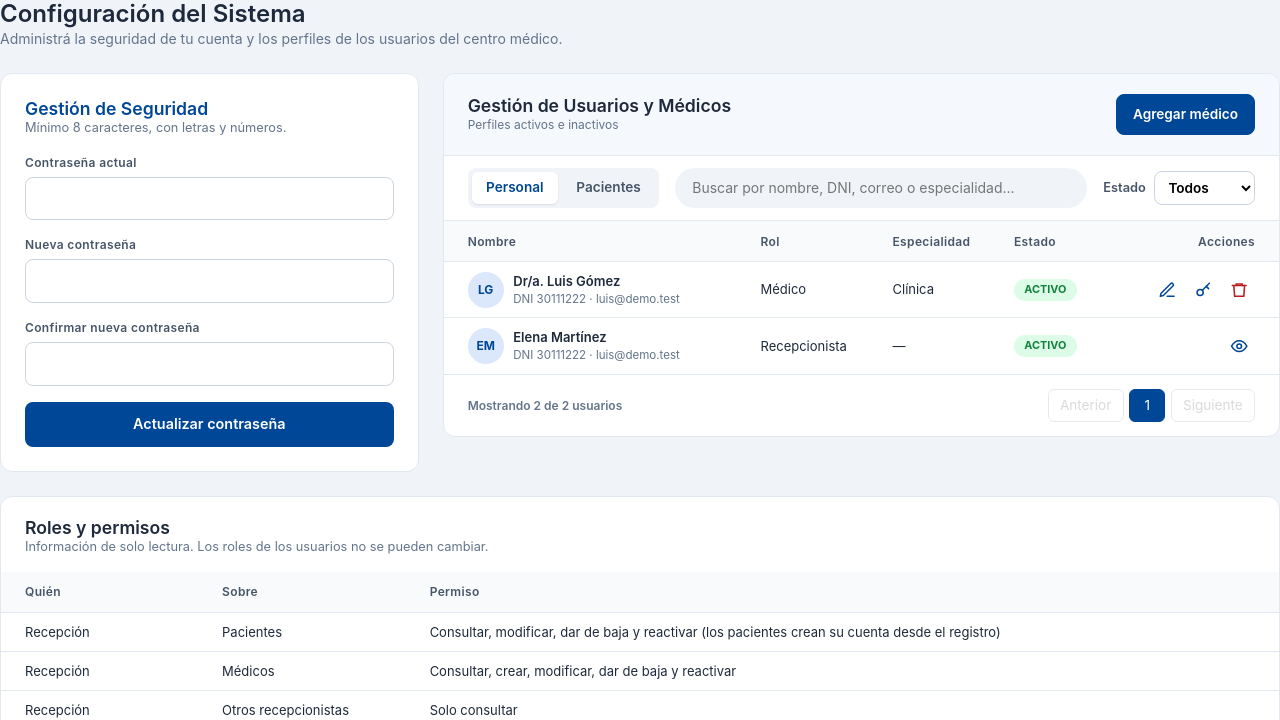
Test: Configuración del Sistema › confirma la baja antes de enviarla y muestra el rechazo del backend
Click the button named "Dar de baja a Luis Gómez". click: coordinates (1239, 290)
box: [1223,274,1255,306]
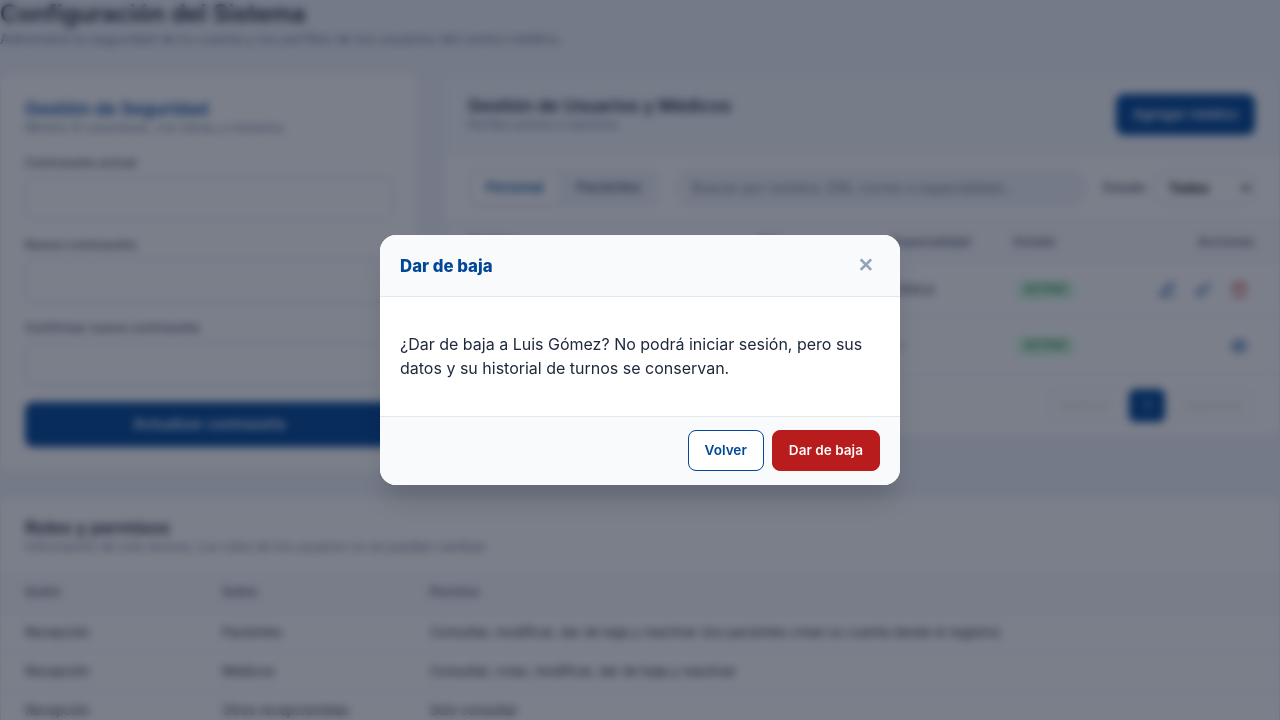
Click the button "Dar de baja". click: coordinates (826, 451)
box: [772,430,880,471]
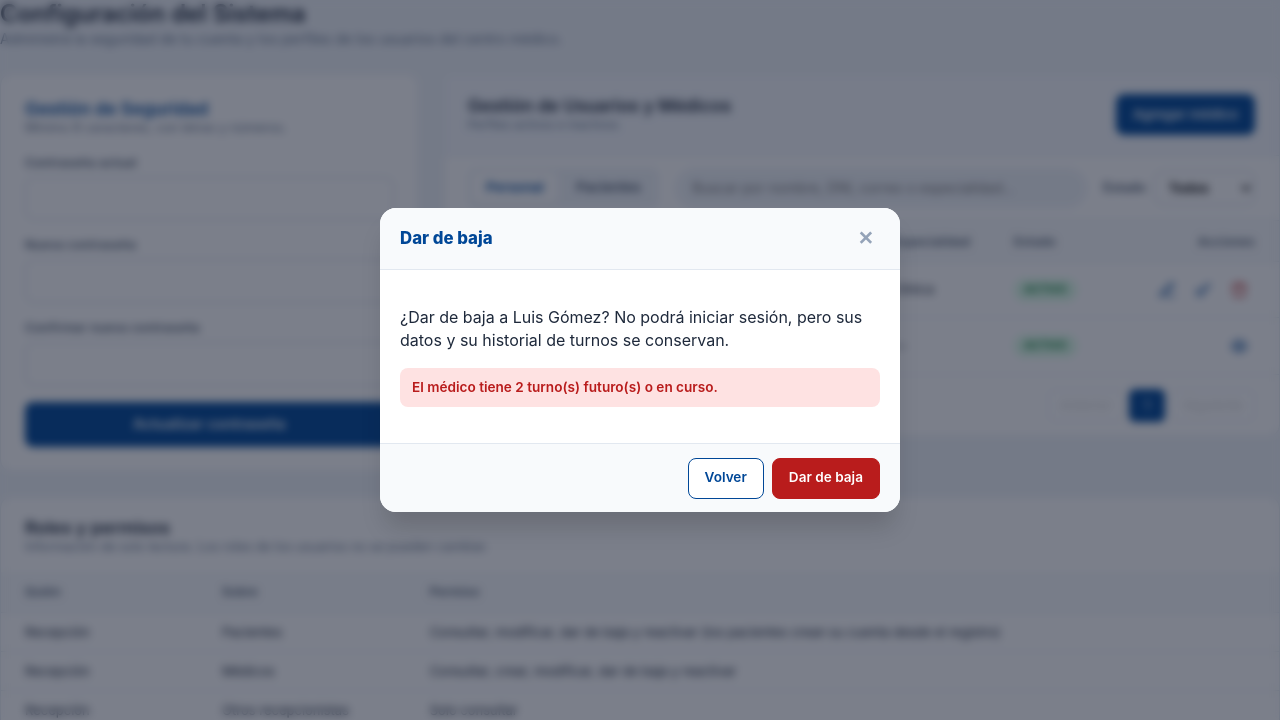
Expected: the text "El médico tiene 2 turno(s) futuro(s) o en curso." is shown, [400,368,880,407]
